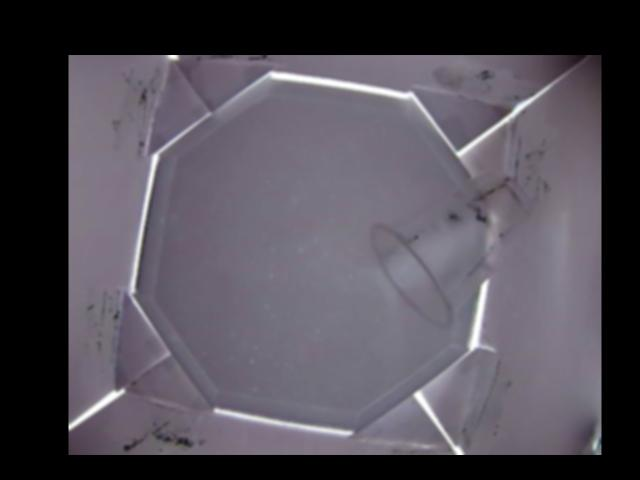Cup: (381, 167, 530, 323)
